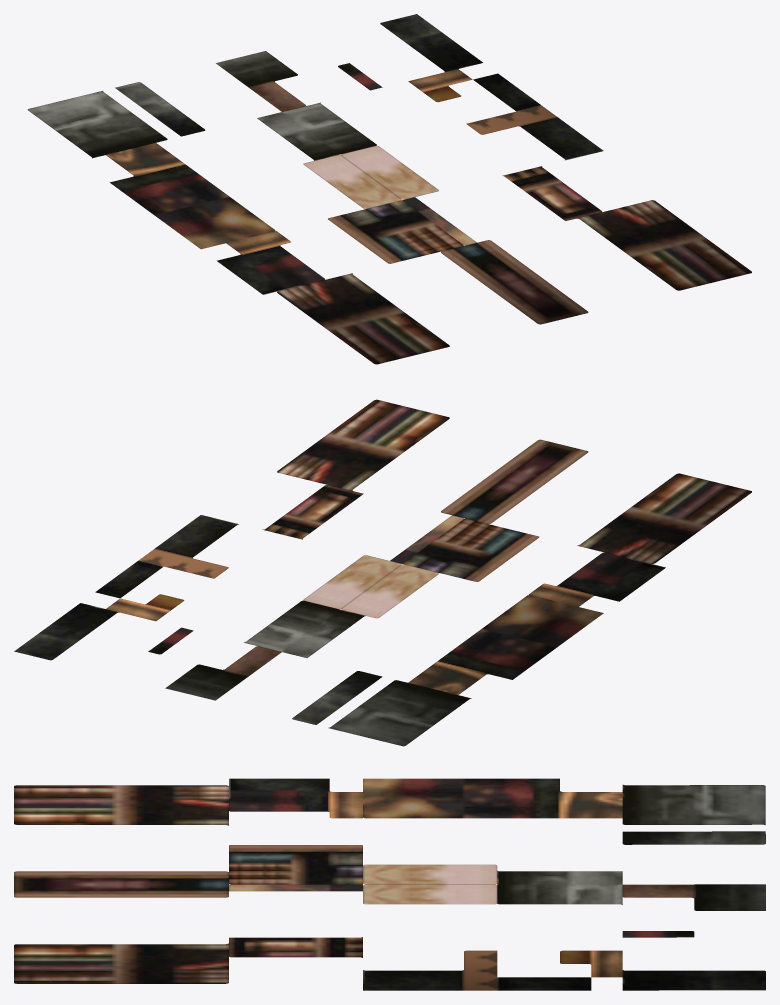
3 views of the same model, one above another, from view 1: azimuth 30°, elevation 25°; view 2: azimuth 150°, elevation 25°; view 3: azimuth 270°, elevation 25° (orthographic). The views are drawn at different scales.
Visible parts, largest first — view 1: T1L4M002_15; view 2: T1L4M002_15; view 3: T1L4M002_15.
Part boxes in pixels (x1,y1,x2,y2): T1L4M002_15: (27,14,751,364); T1L4M002_15: (14,399,751,746); T1L4M002_15: (14,778,765,990).
Size of the model in its own units: 2.8 by 0.000977 by 4.2.
